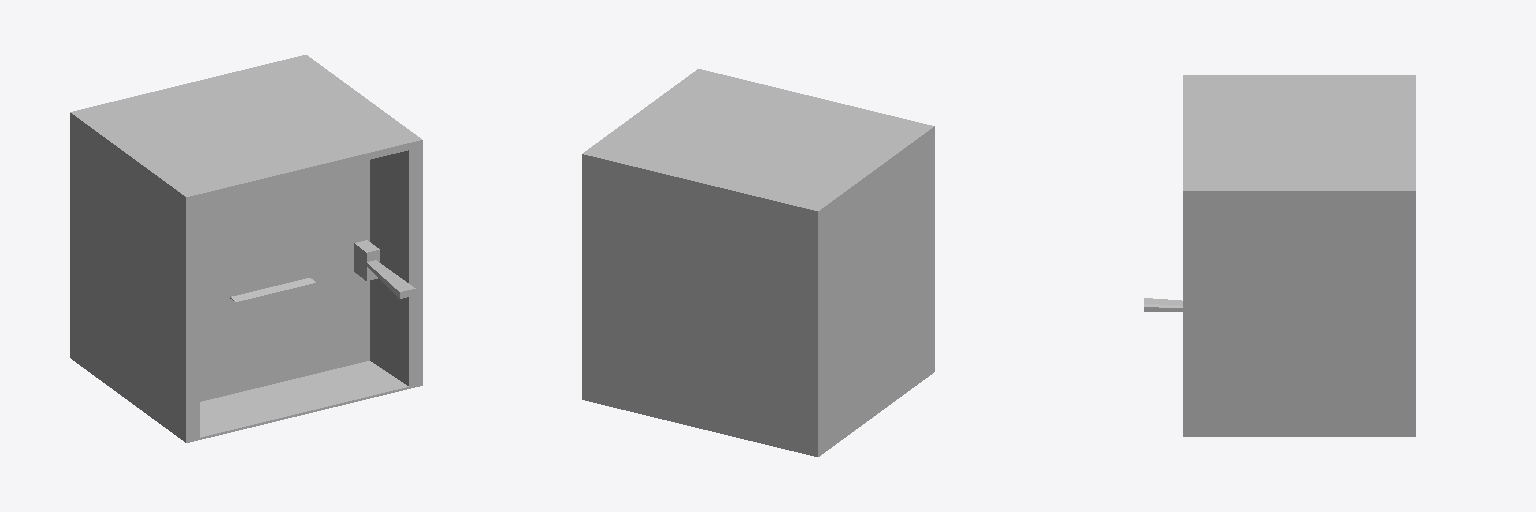
File: door_normal2.obj
3 renders of one model, left to right at view 1: azimuth 30°, elevation 25°; view 2: azimuth 150°, elevation 25°; view 3: azimuth 270°, elevation 25°, orthographic.
Parts seen in each view (by area): view 1: Box017; view 2: Box017; view 3: Box017.
Boxes of the visible parts, x1,y1,x2,y2 form: Box017: [70, 55, 422, 442]; Box017: [582, 69, 934, 456]; Box017: [1144, 75, 1415, 436].
Bounding box in the file's own units: 12.86 × 12.79 × 12.81.